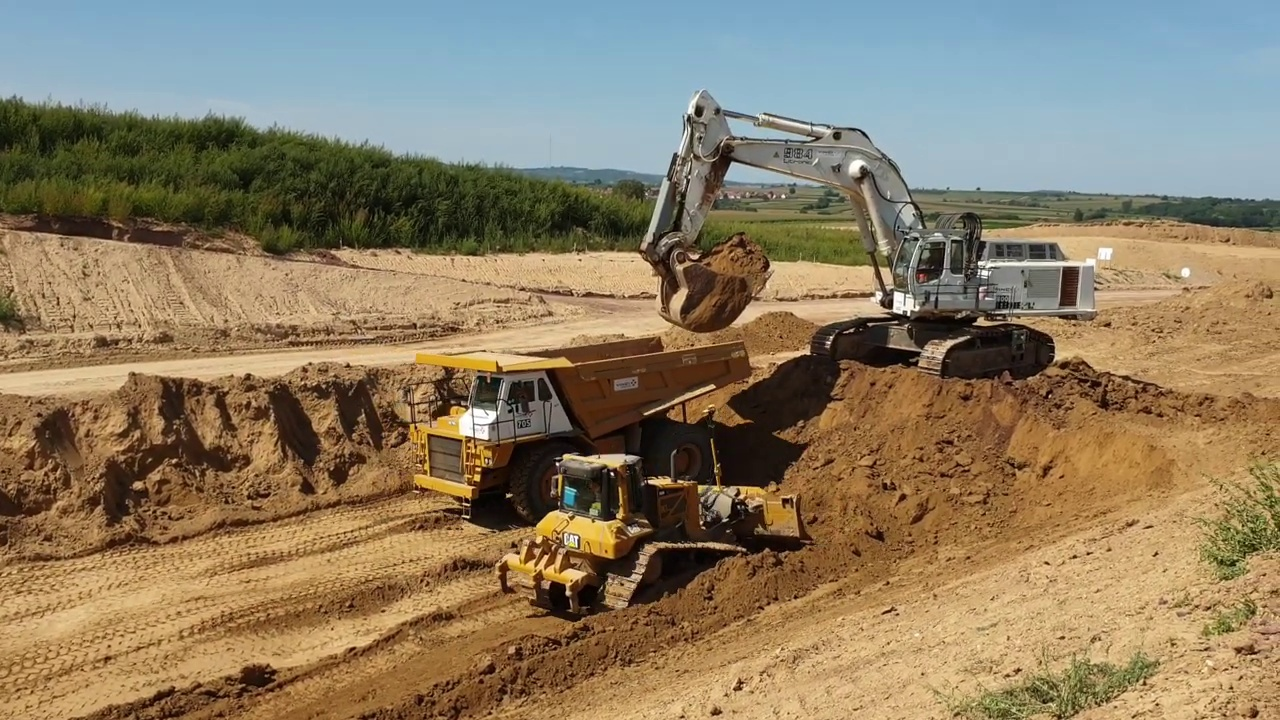bulldozer: (495, 400, 809, 623)
excavator: (637, 85, 1104, 386)
truck: (404, 334, 759, 531)
